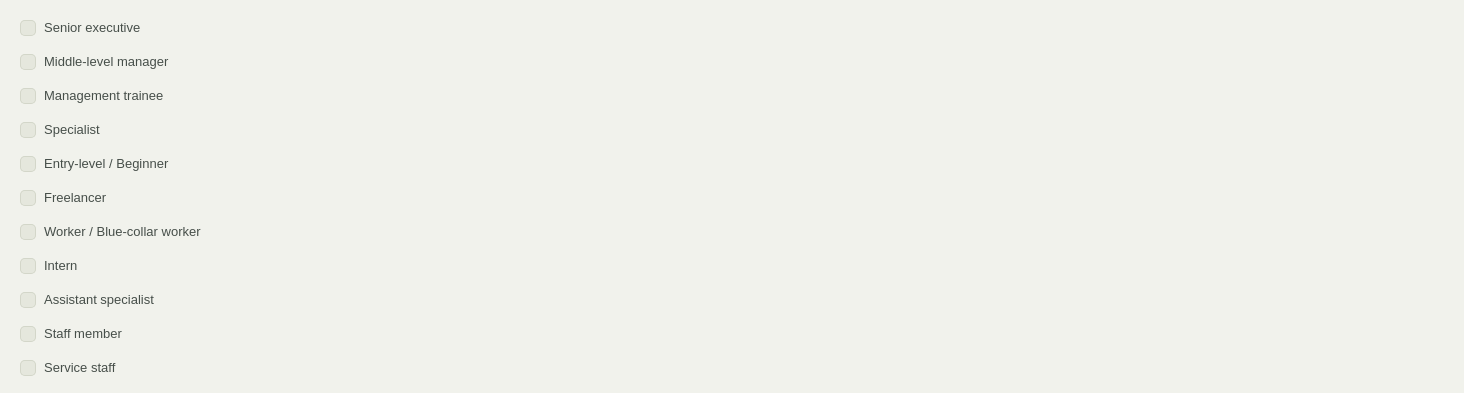
Test: with a limit of 3, the rest lock until one is unticked
This screenshot has width=1464, height=393.
Click the checkbox labelled "Specialist". click: (72, 129)
box: [12,114,1452,146]
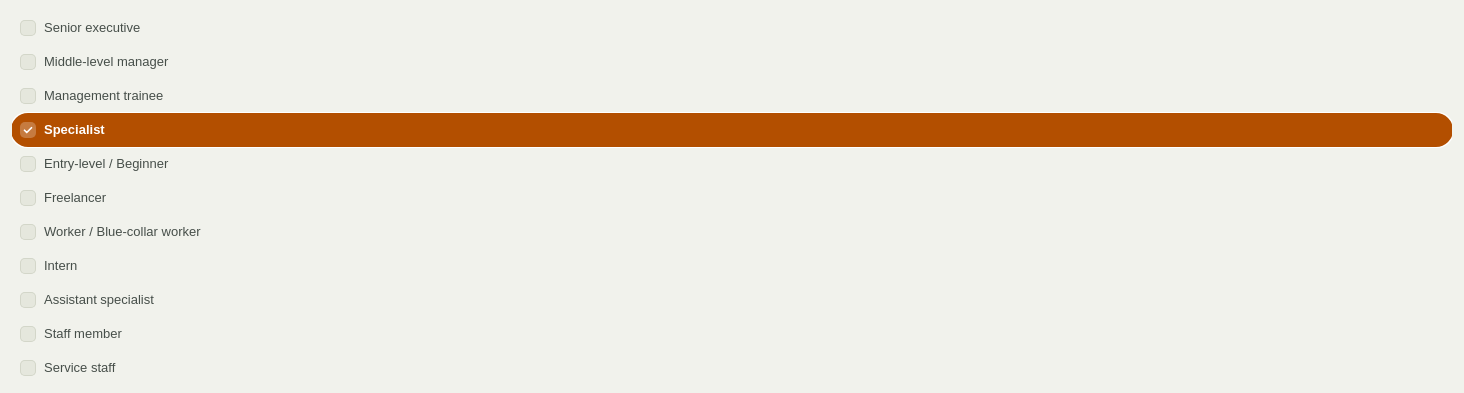
Click the checkbox labelled "Intern". click: (61, 265)
box: [12,250,1452,282]
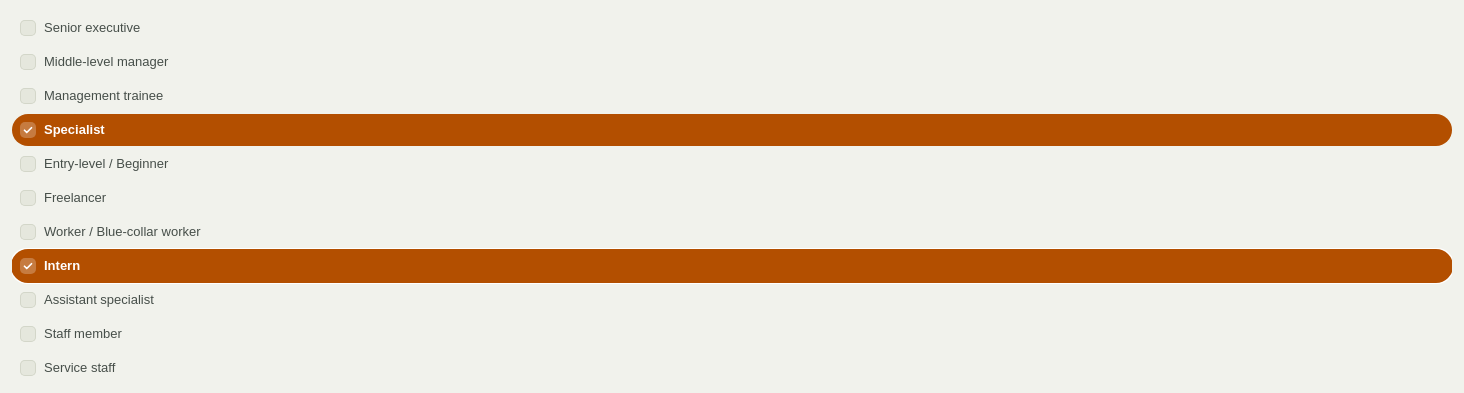
Click the checkbox labelled "Freelancer". click: (75, 197)
box: [12,182,1452,214]
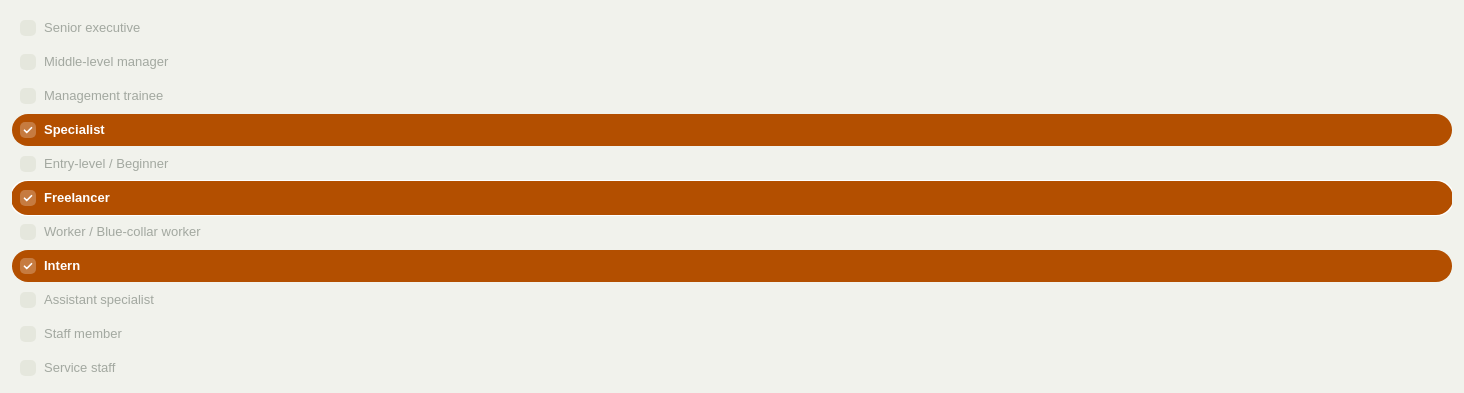
Expected: the checkbox labelled "Specialist" is checked, [12,114,1452,146]
Expected: the checkbox labelled "Staff member" is disabled, [12,318,1452,350]
Click the checkbox labelled "Intern". click: (62, 265)
box: [12,250,1452,282]
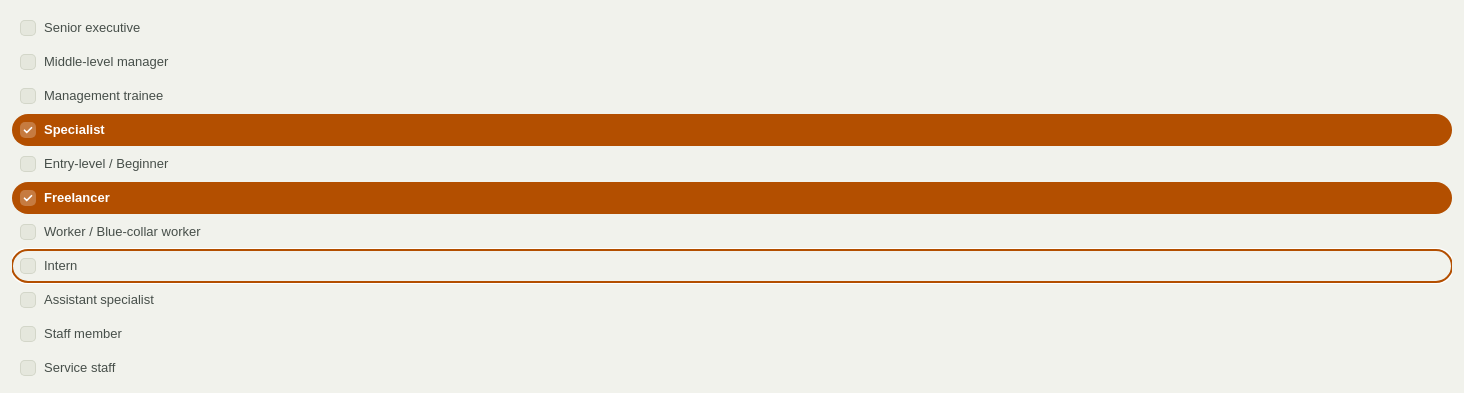
Expected: the checkbox labelled "Intern" is not checked, [12,250,1452,282]
Expected: the checkbox labelled "Staff member" is enabled, [12,318,1452,350]
